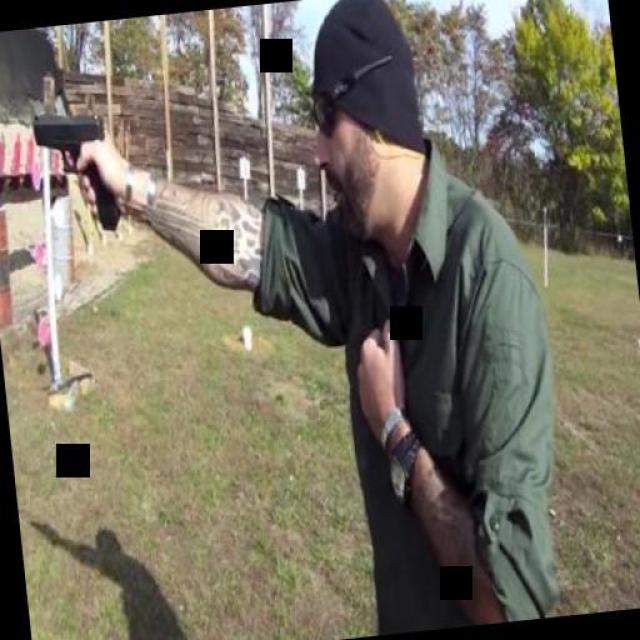gun: (28, 102, 122, 238)
